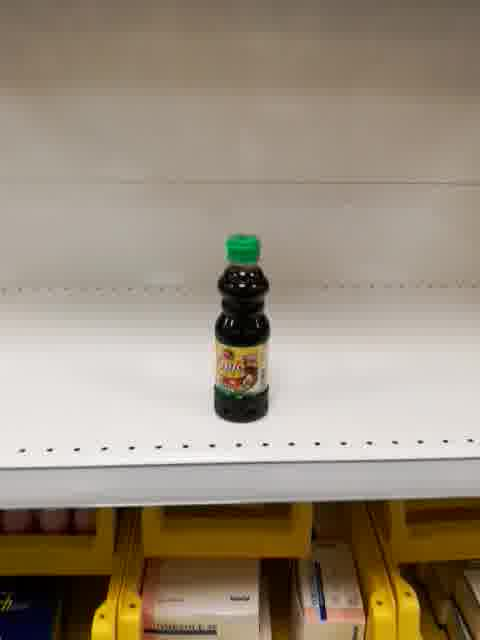cookingoil: (210, 231, 273, 425)
